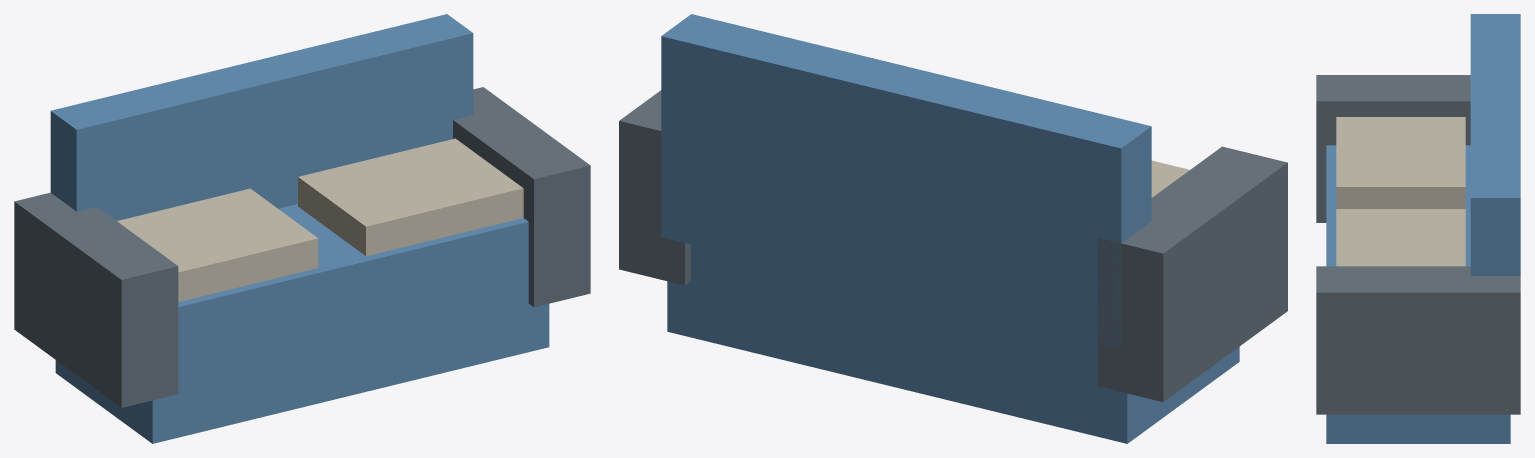
Rendered from sofa_departamento.glb.
3 views of the same model, side by side, from view 1: azimuth 30°, elevation 25°; view 2: azimuth 150°, elevation 25°; view 3: azimuth 270°, elevation 25° (orthographic). The views are drawn at different scales.
Parts seen in each view (by area): view 1: sofa_departamento_00, sofa_departamento_01, sofa_departamento_02, sofa_departamento_05, sofa_departamento_03, sofa_departamento_04; view 2: sofa_departamento_01, sofa_departamento_00, sofa_departamento_02, sofa_departamento_03, sofa_departamento_04; view 3: sofa_departamento_03, sofa_departamento_01, sofa_departamento_04, sofa_departamento_02, sofa_departamento_00, sofa_departamento_05.
Boxes of the visible parts, x1,y1,x2,y2 form: sofa_departamento_00: (55,204,549,443); sofa_departamento_01: (50,14,473,220); sofa_departamento_02: (14,192,178,407); sofa_departamento_05: (298,138,523,256); sofa_departamento_03: (453,87,590,307); sofa_departamento_04: (117,188,318,301); sofa_departamento_01: (661,14,1151,349); sofa_departamento_00: (667,244,1239,443); sofa_departamento_02: (1097,146,1287,402); sofa_departamento_03: (619,90,690,285); sofa_departamento_04: (1151,160,1189,197); sofa_departamento_03: (1316,266,1520,414); sofa_departamento_01: (1470,14,1520,275); sofa_departamento_04: (1336,117,1465,208); sofa_departamento_02: (1316,75,1470,222); sofa_departamento_00: (1326,145,1510,443); sofa_departamento_05: (1336,209,1465,266).
Bounding box in the file's own units: 2.07 × 1.09 × 0.82.
